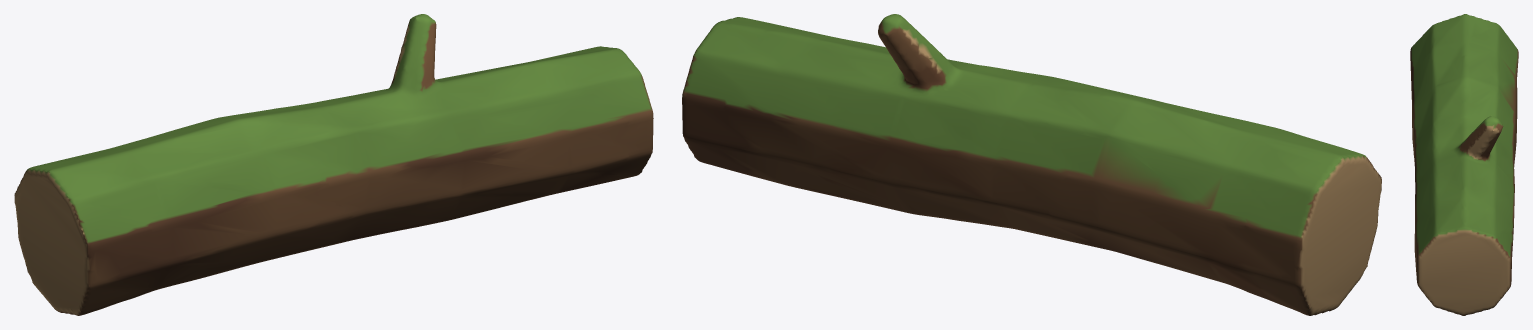
Rendered from log.glb.
3 renders of one model, left to right at view 1: azimuth 30°, elevation 25°; view 2: azimuth 150°, elevation 25°; view 3: azimuth 270°, elevation 25°, orthographic. The views are drawn at different scales.
Parts seen in each view (by area): view 1: log_LOD0; view 2: log_LOD0; view 3: log_LOD0.
Boxes of the visible parts, left/top/right/bottom form: log_LOD0: left=14, top=14, right=653, bottom=315; log_LOD0: left=682, top=14, right=1381, bottom=315; log_LOD0: left=1410, top=14, right=1518, bottom=315.
Size of what is drawn, in the model's own units: 1.61 by 0.5046 by 0.3624.
